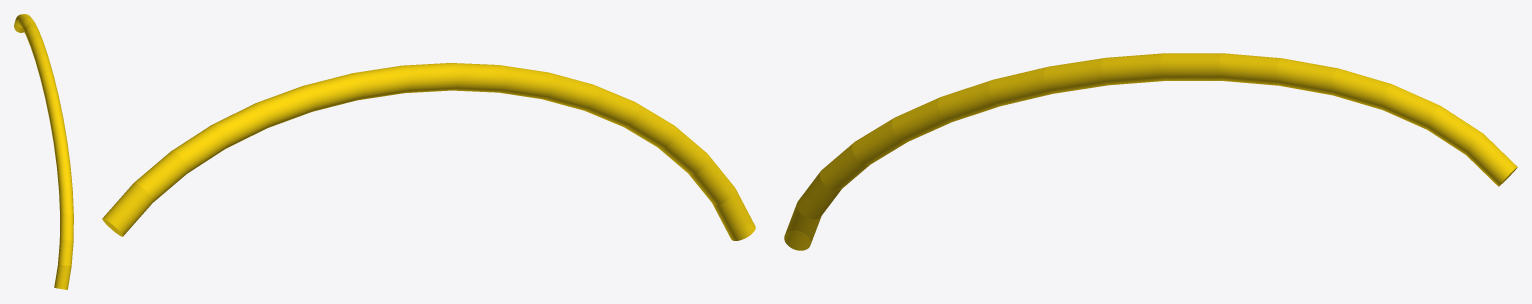
File: Event_420094457_track_74.fbx
3 views of the same model, side by side, from view 1: azimuth 30°, elevation 25°; view 2: azimuth 150°, elevation 25°; view 3: azimuth 270°, elevation 25° (orthographic). The views are drawn at different scales.
Visible parts, largest first — view 1: Model; view 2: Model; view 3: Model.
Boxes of the visible parts, box(x1,y1,x2,y2) form: Model: box(14, 14, 73, 289); Model: box(102, 63, 755, 240); Model: box(784, 53, 1517, 250).
Bounding box in the file's own units: 0.4964 × 0.4478 × 1.06.
